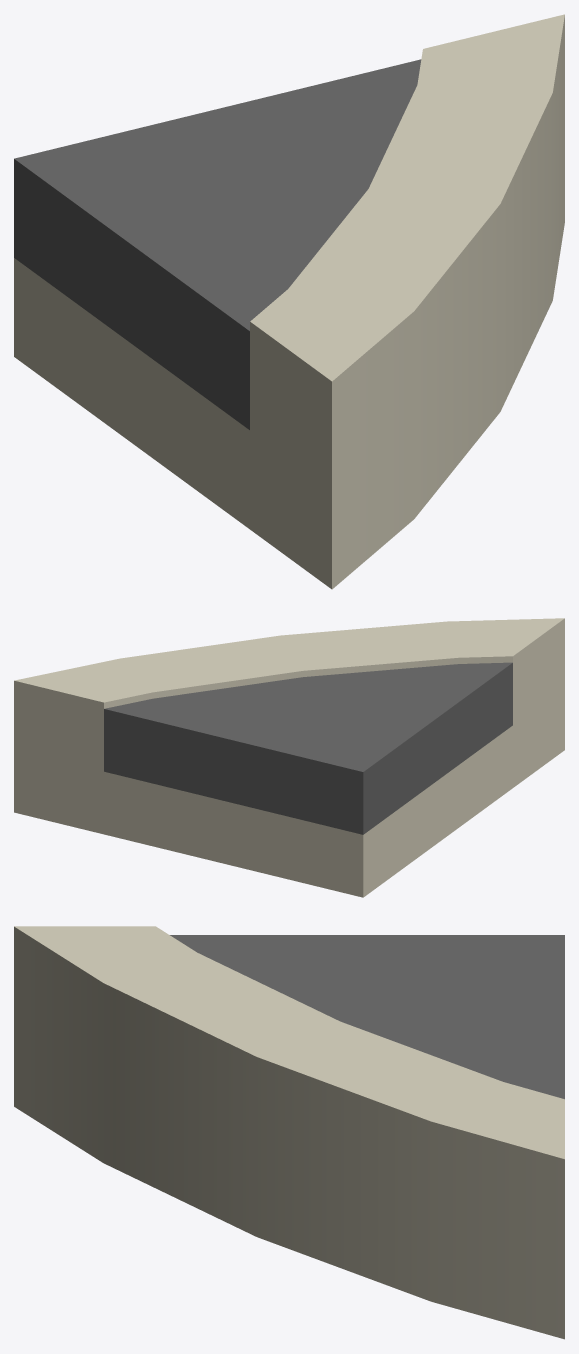
Rendered from roadTile_115.obj.
The picture shows the model from 3 angles, top to bottom: view 1: azimuth 30°, elevation 25°; view 2: azimuth 150°, elevation 25°; view 3: azimuth 270°, elevation 25°; orthographic projection. The views are drawn at different scales.
Visible parts, largest first — view 1: Mesh1_Group1_Model.149; view 2: Mesh1_Group1_Model.149; view 3: Mesh1_Group1_Model.149.
Part boxes in pixels (x1=…): Mesh1_Group1_Model.149: x1=14, y1=14, x2=564, y2=589; Mesh1_Group1_Model.149: x1=14, y1=618, x2=564, y2=897; Mesh1_Group1_Model.149: x1=14, y1=926, x2=564, y2=1339.
Bounding box in the file's own units: 1.75 × 0.63 × 1.75.
